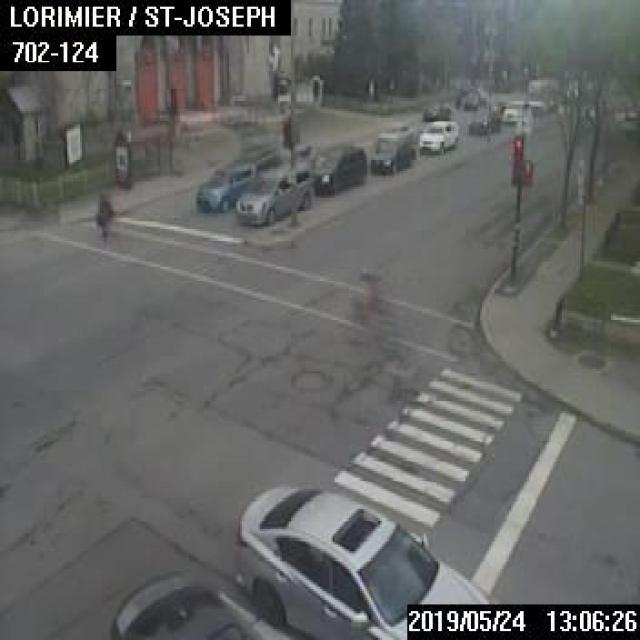pedestrian: (95, 193, 112, 247)
vehicle: (234, 482, 488, 638), (111, 573, 296, 638), (234, 162, 311, 222), (304, 142, 365, 194), (194, 163, 255, 211), (369, 136, 410, 172), (418, 118, 457, 151), (526, 77, 556, 114), (376, 121, 412, 141), (467, 111, 499, 133), (500, 98, 528, 122), (422, 104, 450, 119)
